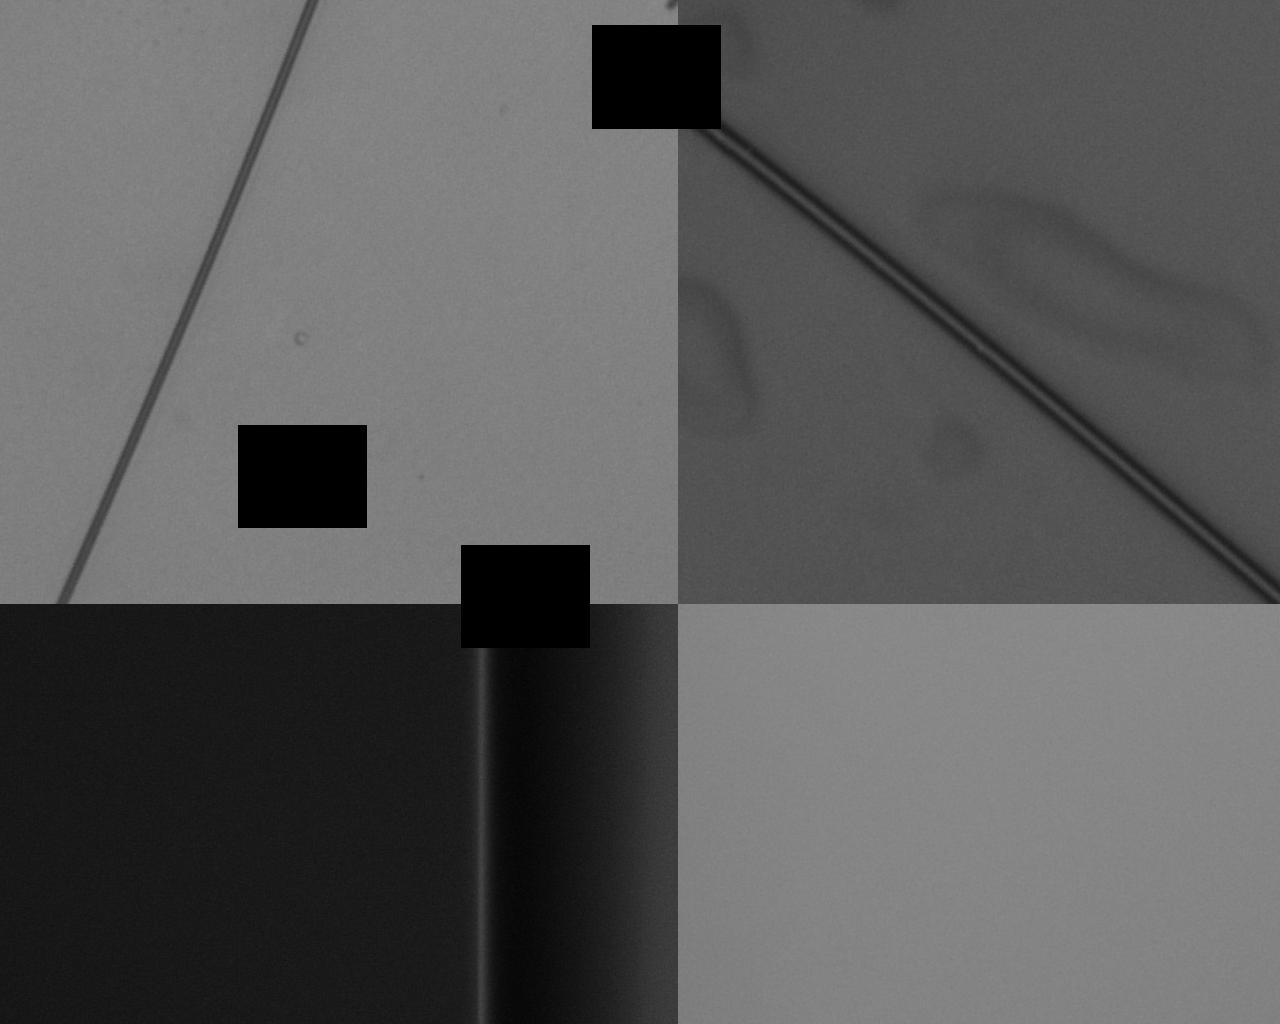fiber: (0, 714, 627, 931), (627, 501, 1179, 557)
